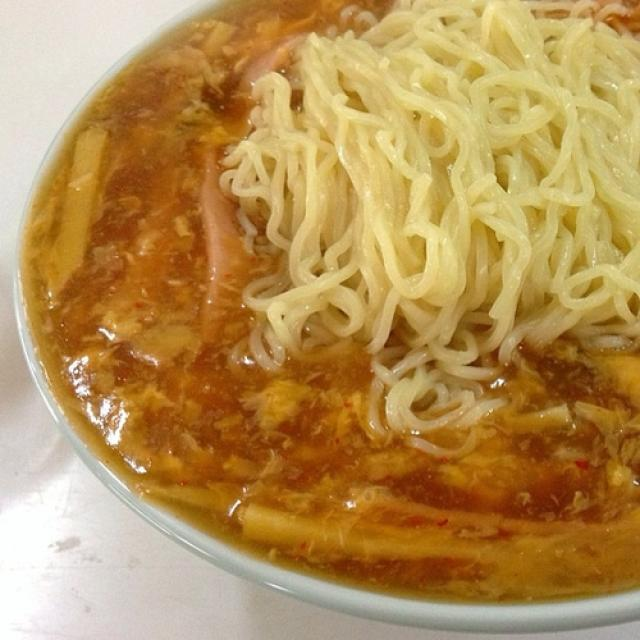面条主食: (9, 8, 637, 628)
